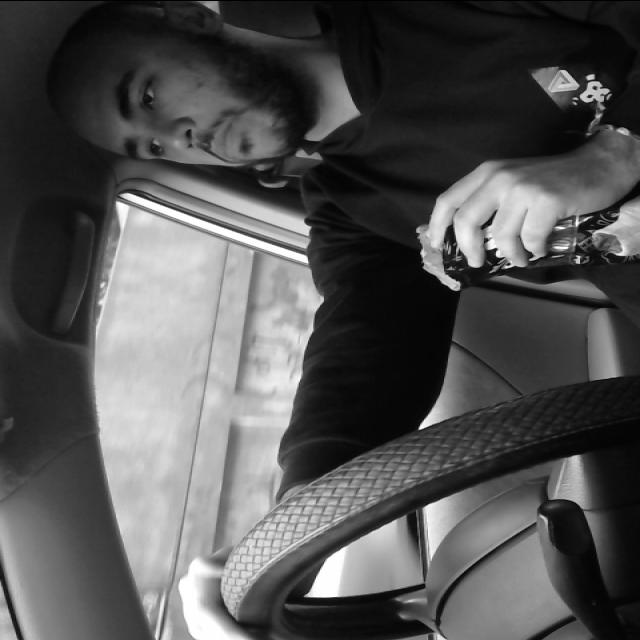eating: (394, 200, 640, 291)
